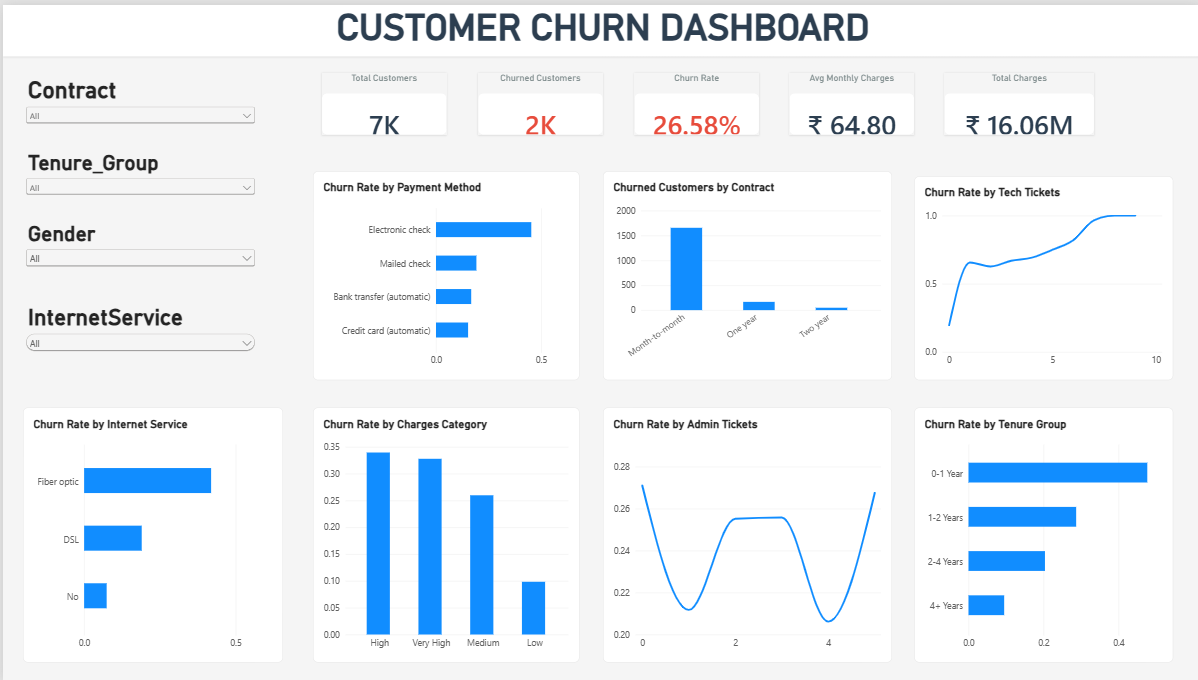

The page's visual inventory and layout, read from the dashboard file:
{"tool":"powerbi","page":{"name":"Page 1","canvas":[1920,1080],"ordinal":0},"visuals":[{"type":"cardVisual","title":"Total Customers","fields":{"Data":["customer churn cleaned - Churn-Dataset cleaned.Total Customers"]},"box":[510,108,200,100],"z":0},{"type":"textbox","title":"CUSTOMER CHURN DASHBOARD","box":[0,0,1920,82.5],"z":1000},{"type":"cardVisual","title":"Churned Customers","fields":{"Data":["customer churn cleaned - Churn-Dataset cleaned.Churned Customers"]},"box":[760,108,200,100],"z":2000},{"type":"cardVisual","title":"Churn Rate","fields":{"Data":["customer churn cleaned - Churn-Dataset cleaned.Churn Rate"]},"box":[1010,108,200,100],"z":3000},{"type":"cardVisual","title":"Avg Monthly Charges","fields":{"Data":["customer churn cleaned - Churn-Dataset cleaned.Avg Monthly Charges"]},"box":[1258,108,200,100],"z":4000},{"type":"slicer","fields":{"Values":["customer churn cleaned - Churn-Dataset cleaned.Contract"]},"box":[32,114,376,92],"z":5000},{"type":"slicer","fields":{"Values":["customer churn cleaned - Churn-Dataset cleaned.Tenure_Group"]},"box":[32,232,376,86],"z":6000},{"type":"slicer","fields":{"Values":["customer churn cleaned - Churn-Dataset cleaned.InternetService"]},"box":[32,478,376,122],"z":7000},{"type":"slicer","fields":{"Values":["customer churn cleaned - Churn-Dataset cleaned.gender"]},"box":[32,346,376,118],"z":8000},{"type":"cardVisual","title":"Total Charges","fields":{"Data":["customer churn cleaned - Churn-Dataset cleaned.Total Revenue"]},"box":[1506,108,240,100],"z":9000},{"type":"barChart","title":"Churn Rate by Payment Method","fields":{"Category":["customer churn cleaned - Churn-Dataset cleaned.PaymentMethod"],"Y":["customer churn cleaned - Churn-Dataset cleaned.Churn Rate"]},"box":[496,266,426,334],"z":10000},{"type":"clusteredColumnChart","title":"Churned Customers by Contract","fields":{"Category":["customer churn cleaned - Churn-Dataset cleaned.Contract"],"Y":["customer churn cleaned - Churn-Dataset cleaned.Churned Customers"]},"box":[960,266,462,334],"z":11000},{"type":"barChart","title":"Churn Rate by Tenure Group","fields":{"Category":["customer churn cleaned - Churn-Dataset cleaned.Tenure_Group"],"Y":["customer churn cleaned - Churn-Dataset cleaned.Churn Rate"]},"box":[1458,644,414,408],"z":12000},{"type":"clusteredBarChart","title":"Churn Rate by Internet Service","fields":{"Category":["customer churn cleaned - Churn-Dataset cleaned.InternetService"],"Y":["customer churn cleaned - Churn-Dataset cleaned.Churn Rate"]},"box":[32,644,416,408],"z":13000},{"type":"clusteredColumnChart","title":"Churn Rate by Charges Category","fields":{"Category":["customer churn cleaned - Churn-Dataset cleaned.Charges_Category"],"Y":["customer churn cleaned - Churn-Dataset cleaned.Churn Rate"]},"box":[496,644,426,408],"z":14000},{"type":"lineChart","title":"Churn Rate by Tech Tickets","fields":{"Category":["customer churn cleaned - Churn-Dataset cleaned.numTechTickets"],"Y":["customer churn cleaned - Churn-Dataset cleaned.Churn Rate"]},"box":[1458,274,414,326],"z":15000},{"type":"lineChart","title":"Churn Rate by Admin Tickets","fields":{"Category":["customer churn cleaned - Churn-Dataset cleaned.numAdminTickets"],"Y":["customer churn cleaned - Churn-Dataset cleaned.Churn Rate"]},"box":[960,644,462,408],"z":15001}]}

Visuals, with their boxes in screenshot pixels (x1, y1, x2, y2), scaled from the page's 1920x1080 canvas onto the 1198x680 screenshot:
"Total Customers" cardVisual: (x1=318, y1=68, x2=443, y2=131)
"CUSTOMER CHURN DASHBOARD" textbox: (x1=0, y1=0, x2=1197, y2=52)
"Churned Customers" cardVisual: (x1=474, y1=68, x2=599, y2=131)
"Churn Rate" cardVisual: (x1=630, y1=68, x2=755, y2=131)
"Avg Monthly Charges" cardVisual: (x1=785, y1=68, x2=910, y2=131)
slicer - customer churn cleaned - Churn-Dataset cleaned.Contract: (x1=20, y1=72, x2=255, y2=130)
slicer - customer churn cleaned - Churn-Dataset cleaned.Tenure_Group: (x1=20, y1=146, x2=255, y2=200)
slicer - customer churn cleaned - Churn-Dataset cleaned.InternetService: (x1=20, y1=301, x2=255, y2=378)
slicer - customer churn cleaned - Churn-Dataset cleaned.gender: (x1=20, y1=218, x2=255, y2=292)
"Total Charges" cardVisual: (x1=940, y1=68, x2=1089, y2=131)
"Churn Rate by Payment Method" barChart: (x1=309, y1=167, x2=575, y2=378)
"Churned Customers by Contract" clusteredColumnChart: (x1=599, y1=167, x2=887, y2=378)
"Churn Rate by Tenure Group" barChart: (x1=910, y1=405, x2=1168, y2=662)
"Churn Rate by Internet Service" clusteredBarChart: (x1=20, y1=405, x2=280, y2=662)
"Churn Rate by Charges Category" clusteredColumnChart: (x1=309, y1=405, x2=575, y2=662)
"Churn Rate by Tech Tickets" lineChart: (x1=910, y1=173, x2=1168, y2=378)
"Churn Rate by Admin Tickets" lineChart: (x1=599, y1=405, x2=887, y2=662)
